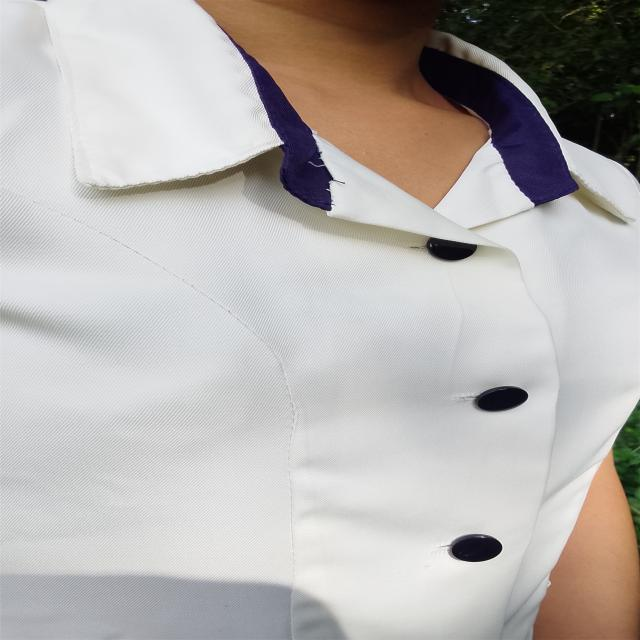education_female_uniform: (9, 0, 639, 632)
